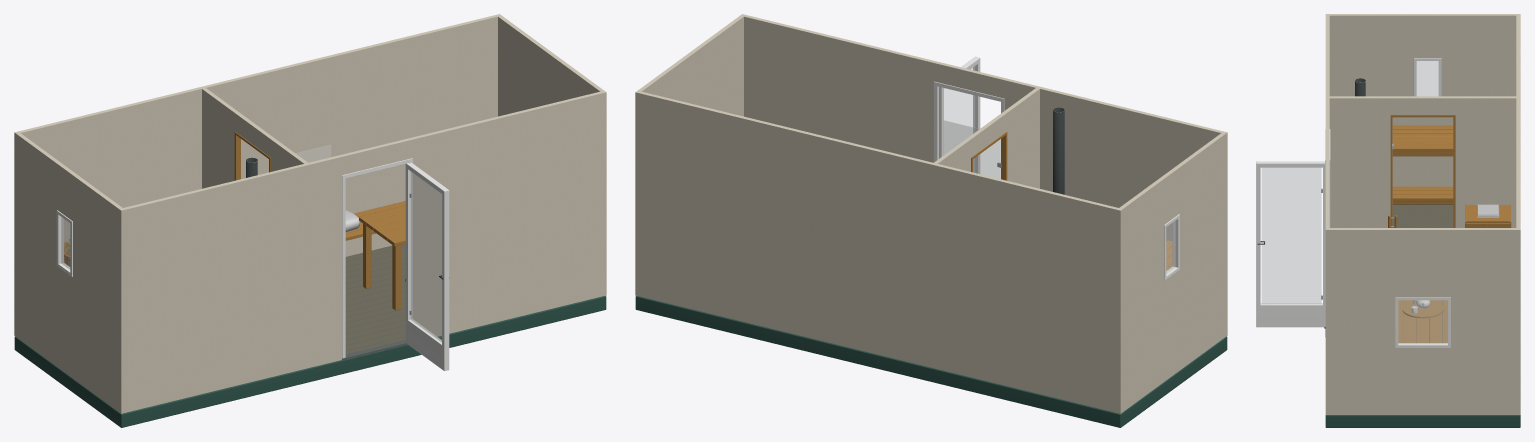
3 renders of one model, left to right at view 1: azimuth 30°, elevation 25°; view 2: azimuth 150°, elevation 25°; view 3: azimuth 270°, elevation 25°, orthographic. The views are drawn at different scales.
Visible parts, largest first — view 1: Wall front band 2, Wall front band 7, Wall rear band 7, Wall front band 4, Wall front band 5, Wall front band 6, Wall front band 1, Wall front band 8, Wall rear band 6, Wall rear band 8, Wall rear band 5, Foundation (+24 smaller); view 2: Wall rear band 2, Wall rear band 6, Wall rear band 4, Wall rear band 7, Wall rear band 5, Wall rear band 1, Wall rear band 8, Wall front band 8, Wall front band 7, Foundation, Wall front band 6, Wall front band 5 (+19 smaller); view 3: Single PVC glass panel, Wall right band 2, Wall left band 7, Wall right band 6, Wall right band 7, Wall right band 1, Wall left band 6, Wall left band 8, Wall right band 8, Wall v4_p16_top_2_0003 band 8, Wall right band 4, Wall right band 5 (+42 smaller).
Part boxes in pixels (x1,y1,x2,y2): Wall front band 2: (119,226,606,374); Wall front band 7: (119,111,606,256); Wall rear band 7: (14,35,497,179); Wall front band 4: (119,194,606,339); Wall front band 5: (119,166,606,312); Wall front band 6: (119,138,606,284); Wall front band 1: (119,256,606,401); Wall front band 8: (119,90,606,228); Wall rear band 6: (14,63,497,207); Wall rear band 8: (14,14,501,152); Wall rear band 5: (14,90,497,235); Foundation: (14,295,606,427); Wall rear band 2: (635,226,1122,374); Wall rear band 6: (635,138,1122,284); Wall rear band 4: (635,194,1122,339); Wall rear band 7: (635,111,1122,256); Wall rear band 5: (635,166,1122,312); Wall rear band 1: (635,256,1122,401); Wall rear band 8: (635,90,1122,228); Wall front band 8: (740,14,1227,152); Wall front band 7: (744,35,1227,179); Foundation: (635,295,1227,427); Wall front band 6: (744,63,1227,207); Wall front band 5: (744,90,1227,235); Single PVC glass panel: (1262,168,1321,303); Wall right band 2: (1329,352,1516,379); Wall left band 7: (1329,32,1516,57); Wall right band 6: (1329,272,1516,297); Wall right band 7: (1329,246,1516,271); Wall right band 1: (1329,379,1516,403); Wall left band 6: (1329,58,1516,82); Wall left band 8: (1329,14,1516,32); Wall right band 8: (1329,228,1516,246); Wall v4_p16_top_2_0003 band 8: (1329,96,1516,114); Wall right band 4: (1329,322,1516,347); Wall right band 5: (1329,297,1516,322).
Bounding box in the file's own units: 5.52 × 2.36 × 2.84.
Materials: 33 (14 with a texture image).
